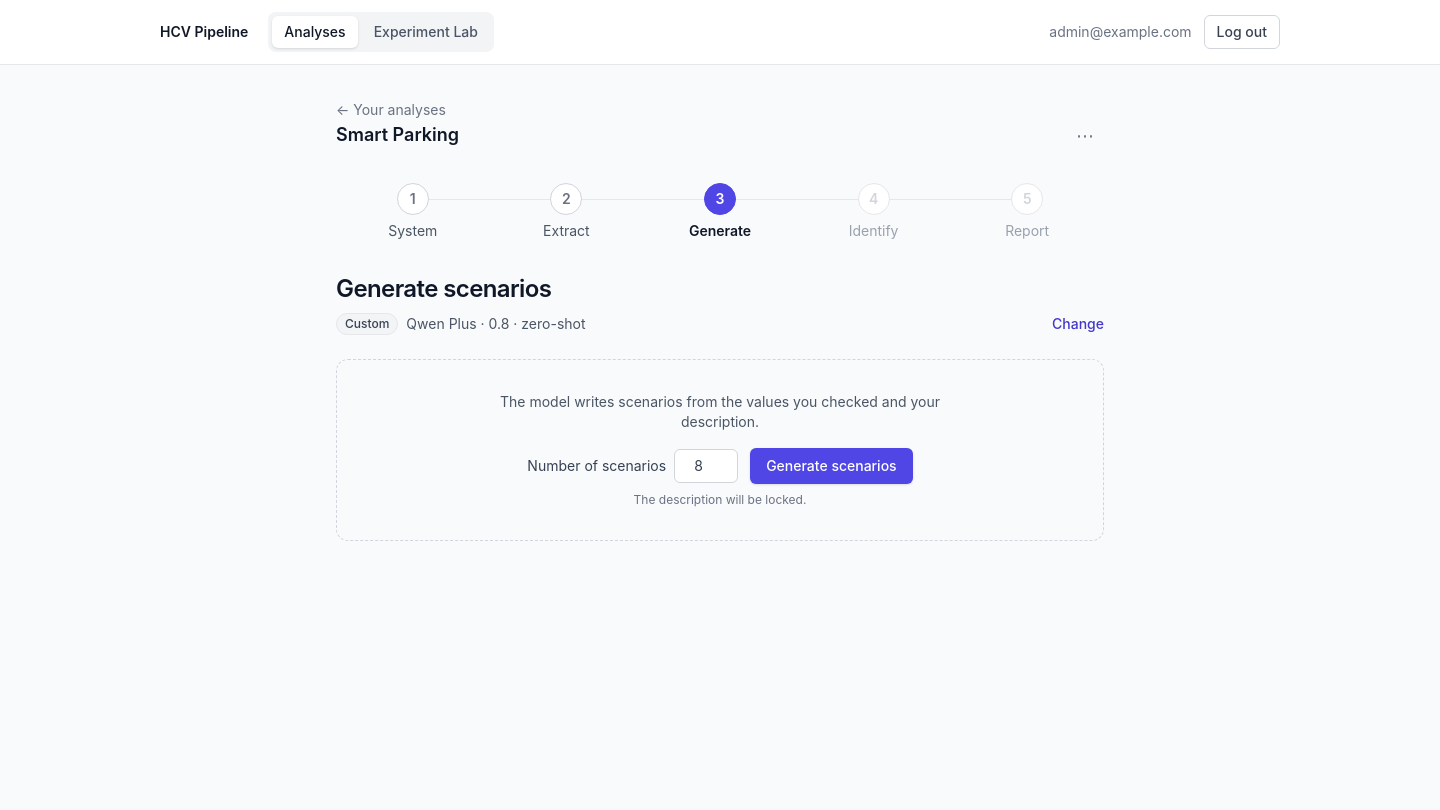
Scenario: Settings panel › shows no hint for a model with support
Expected: the number field labelled "Number of scenarios" is shown, [674,449,738,483]
Click the button "Change". click: x=1078, y=324
box: [1052,314,1104,334]
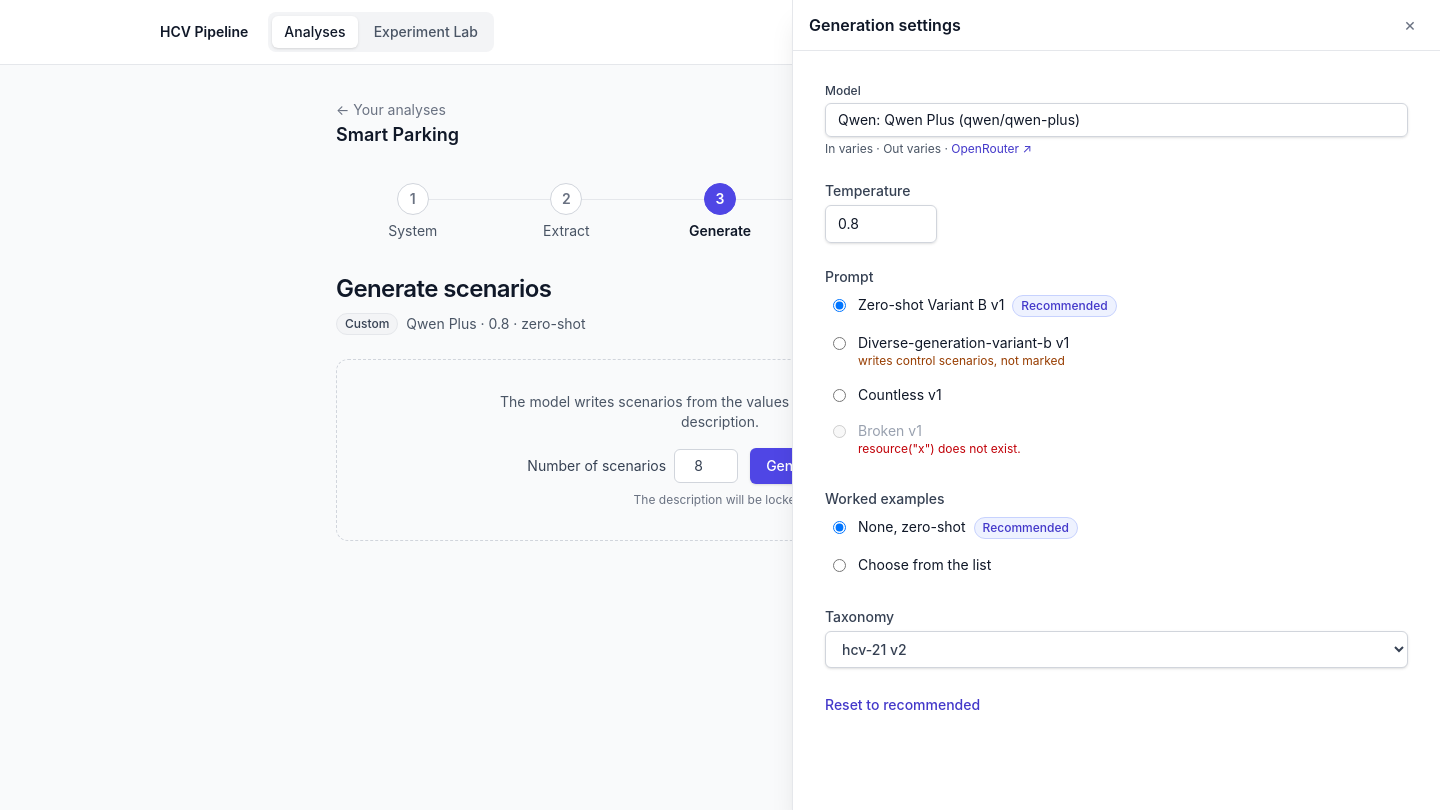
Now the dropdown showing "Qwen Plus" is shown, box [825,103,1408,137]
